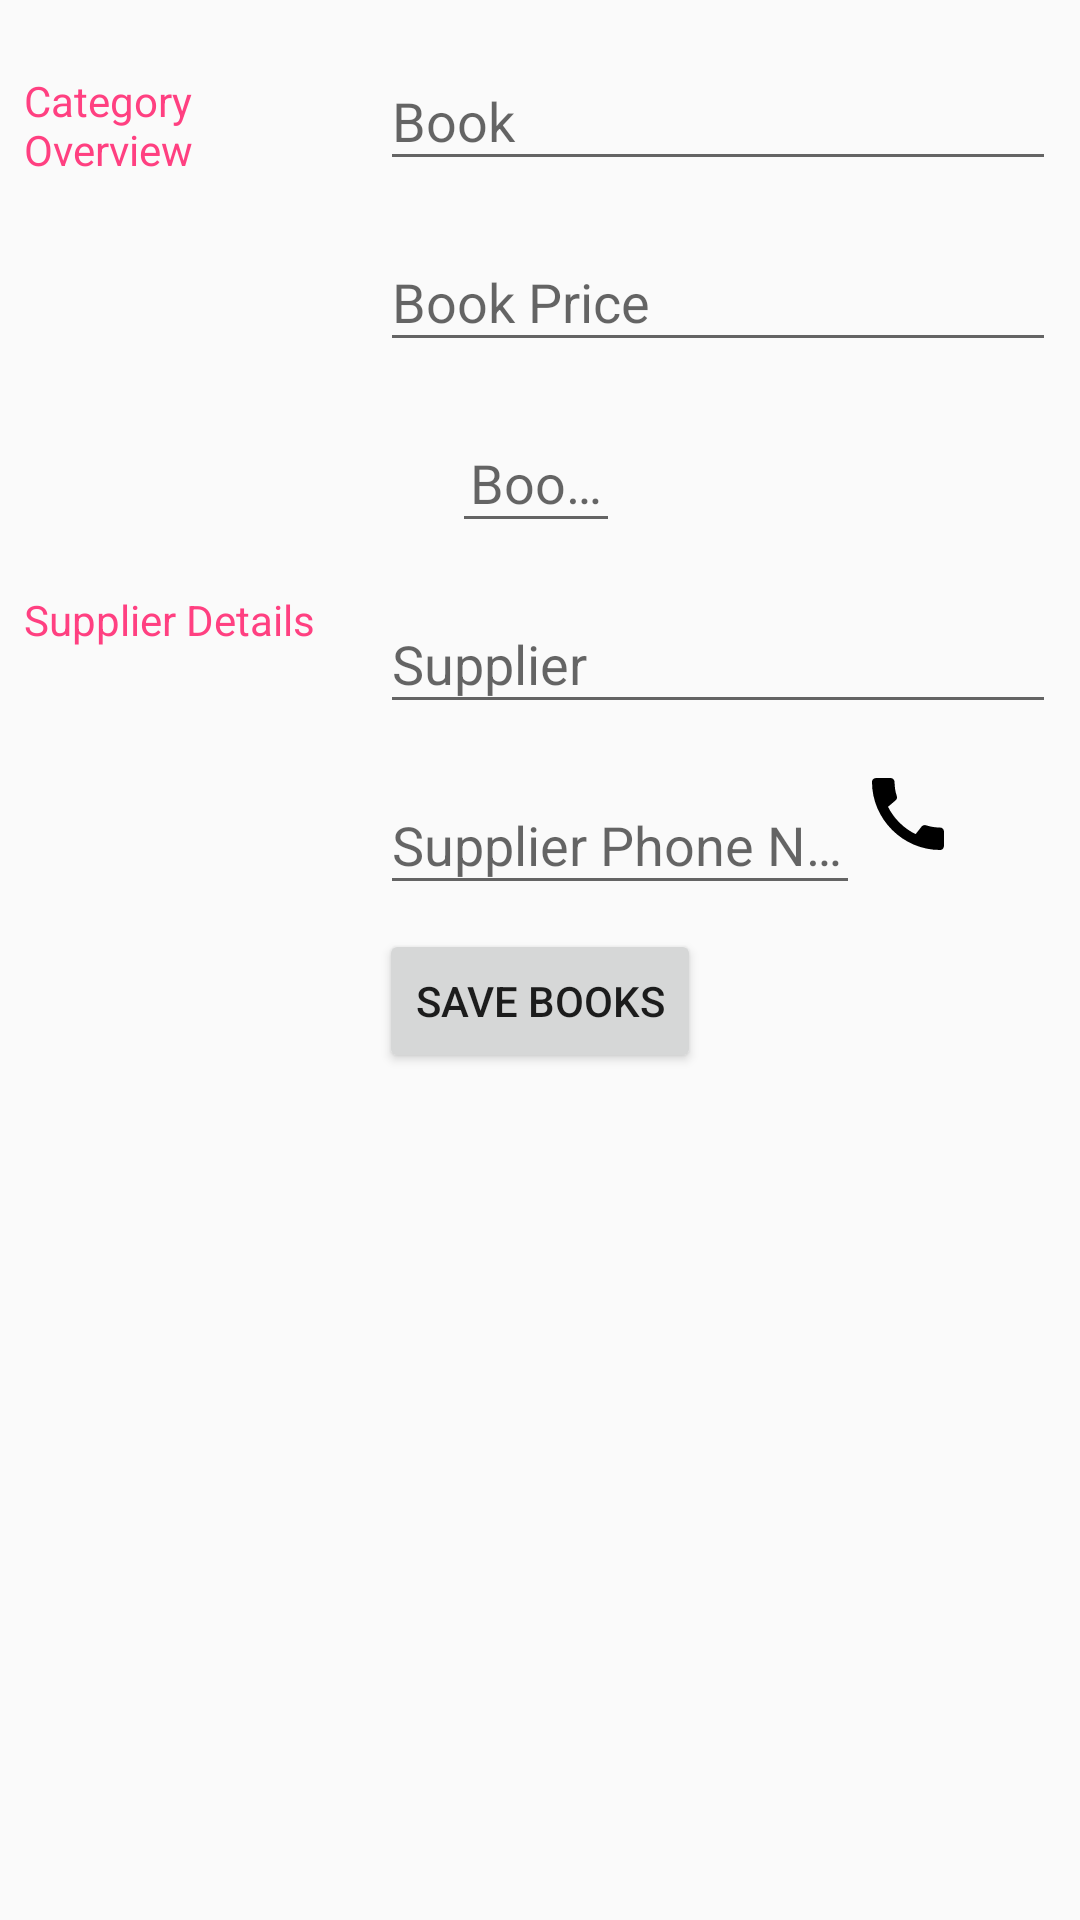

Icon bounding boxes for this 1080×1920 phone screenshot, format (x1, y1, x2, y2):
call: (872, 778, 944, 850)
